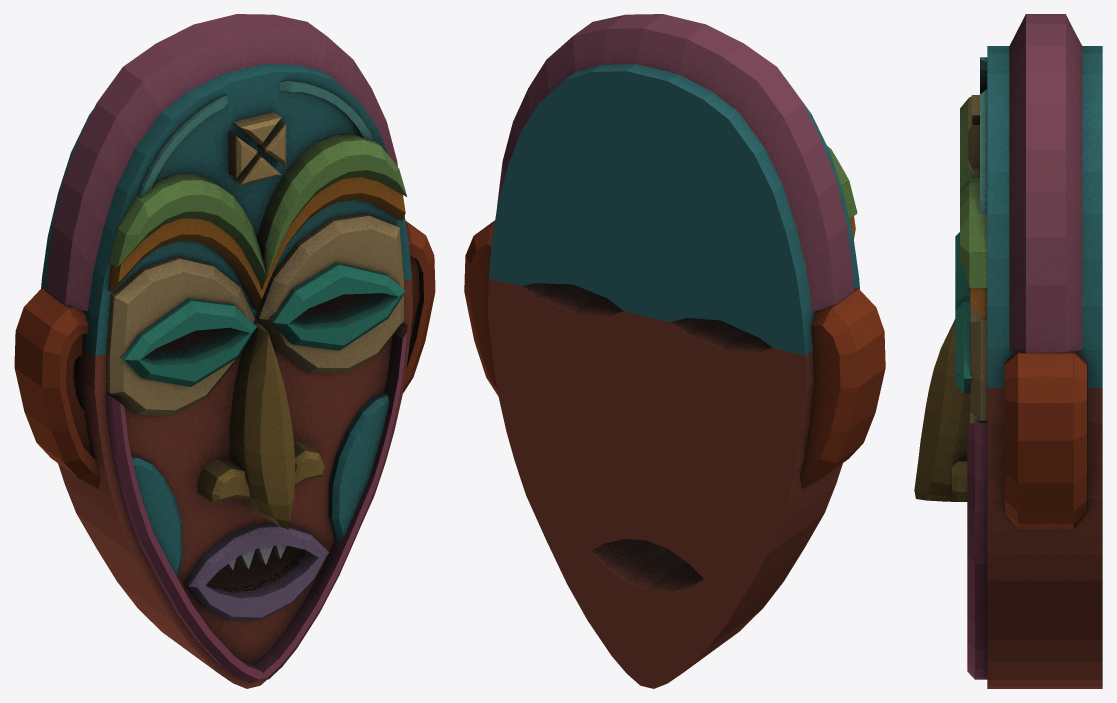
File: mayamask3.fbx
The picture shows the model from 3 angles, left to right: view 1: azimuth 30°, elevation 25°; view 2: azimuth 150°, elevation 25°; view 3: azimuth 270°, elevation 25°; orthographic projection.
Parts seen in each view (by area): view 1: Cube.003; view 2: Cube.003; view 3: Cube.003.
Boxes of the visible parts, box(x1,y1,x2,y2) form: Cube.003: box(14, 14, 435, 688); Cube.003: box(464, 14, 885, 688); Cube.003: box(914, 14, 1102, 688).
Bounding box in the file's own units: 149 × 231 × 60.53.
Materials: 1 (1 with a texture image).
